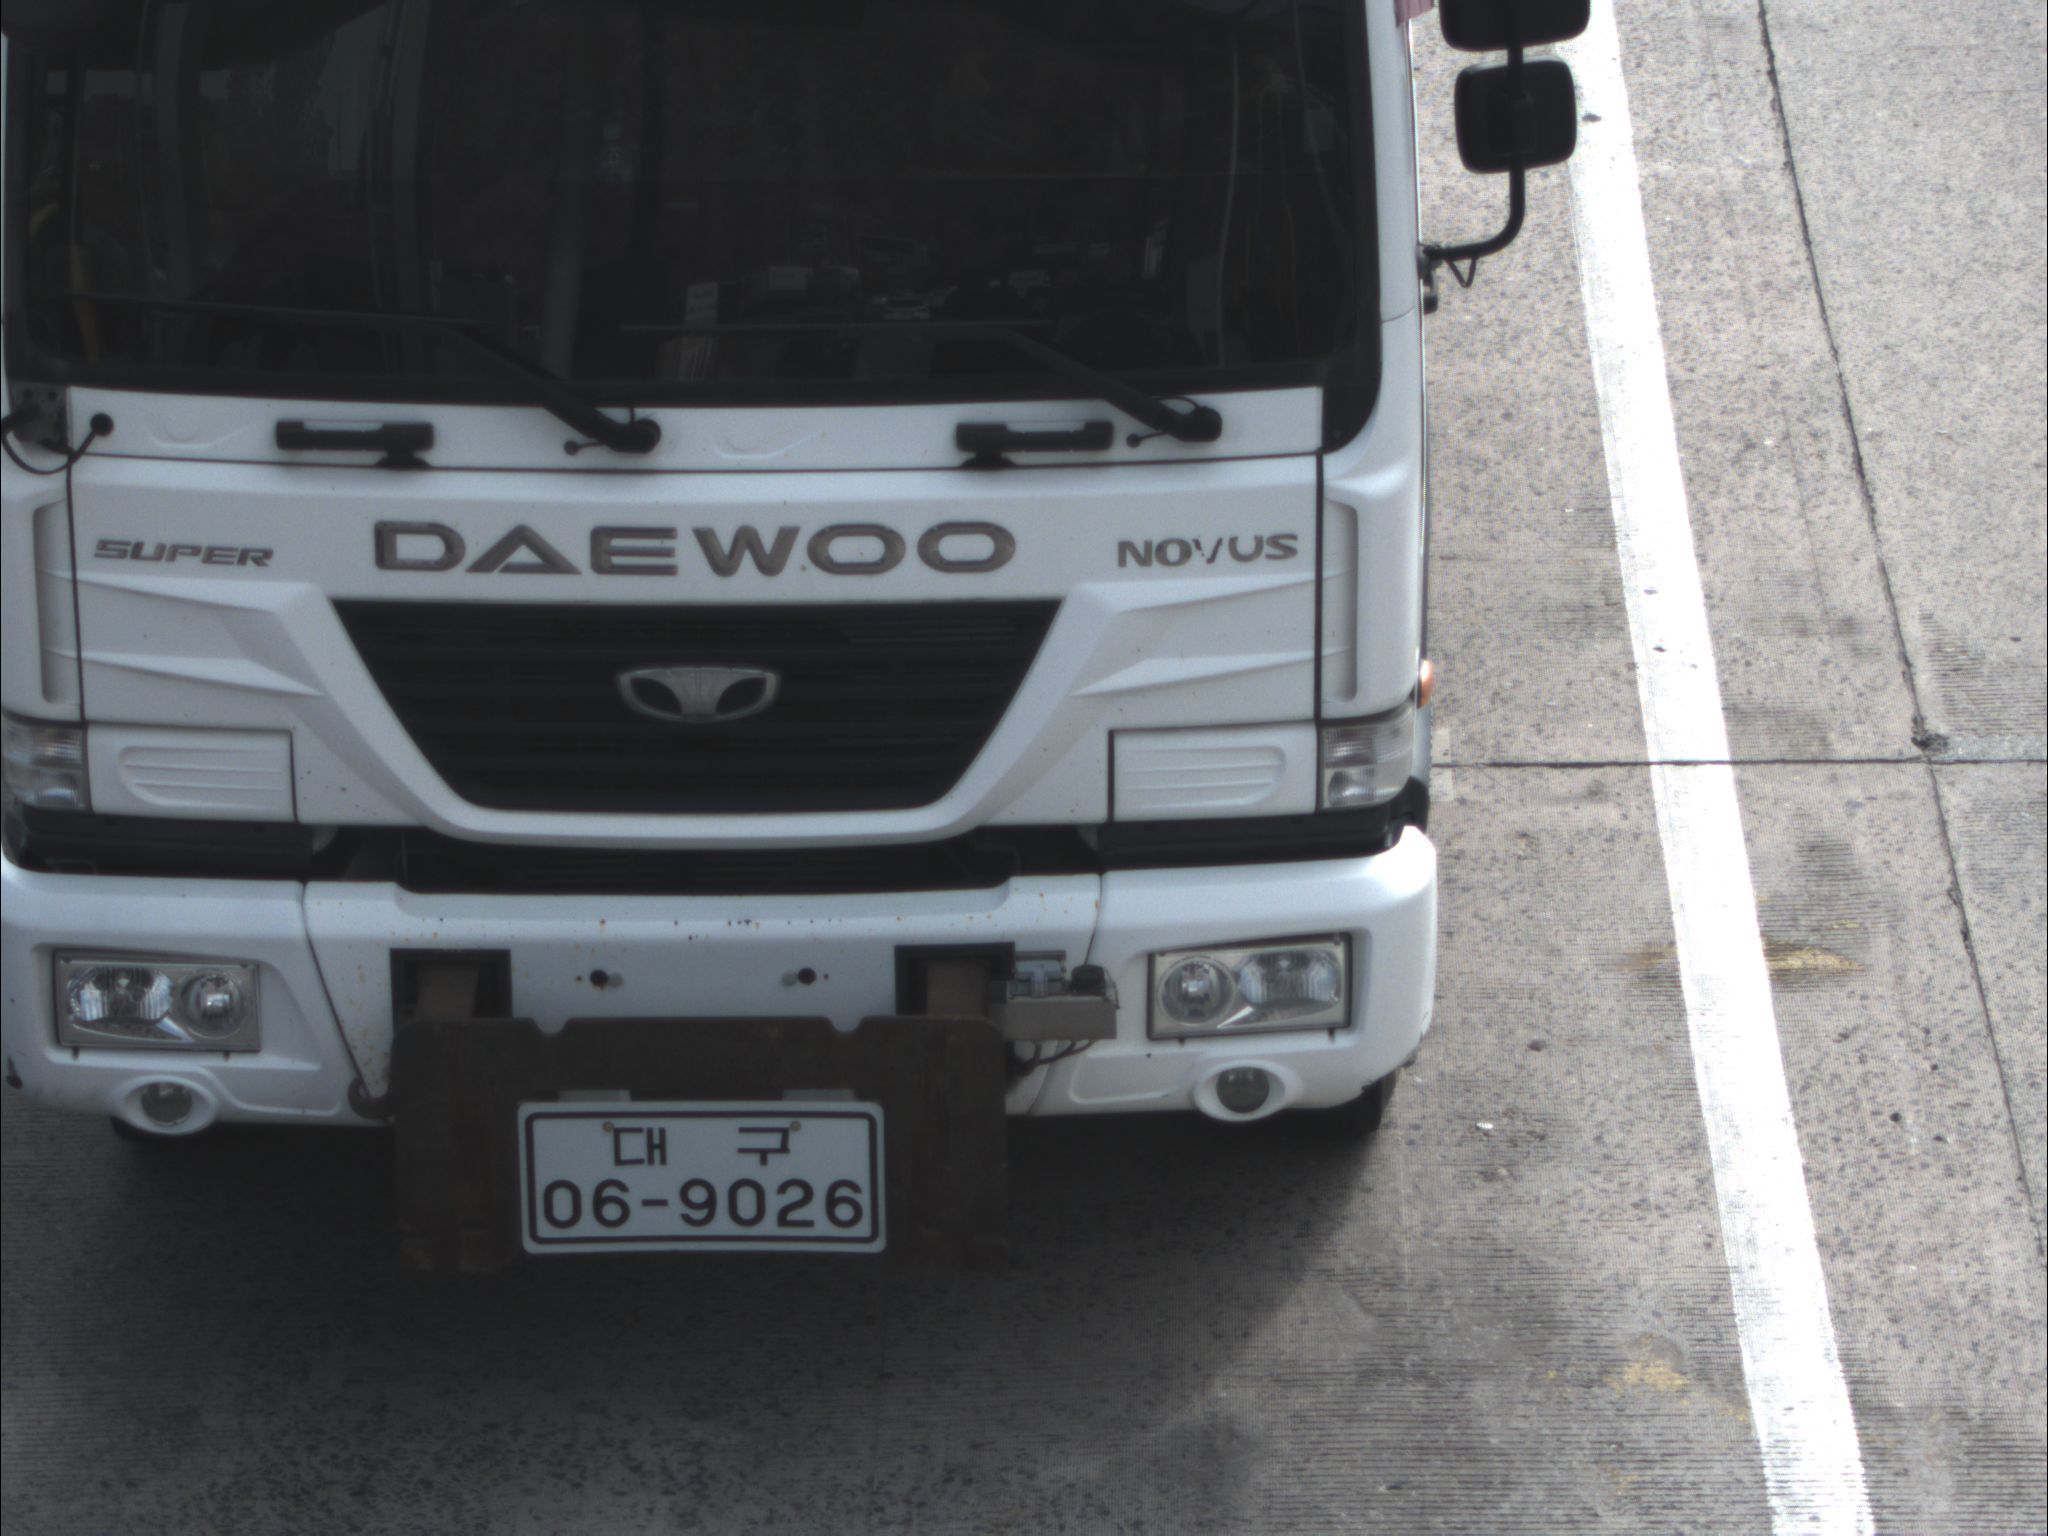car: (1, 1, 1582, 1257)
plate: (514, 1104, 887, 1251)
